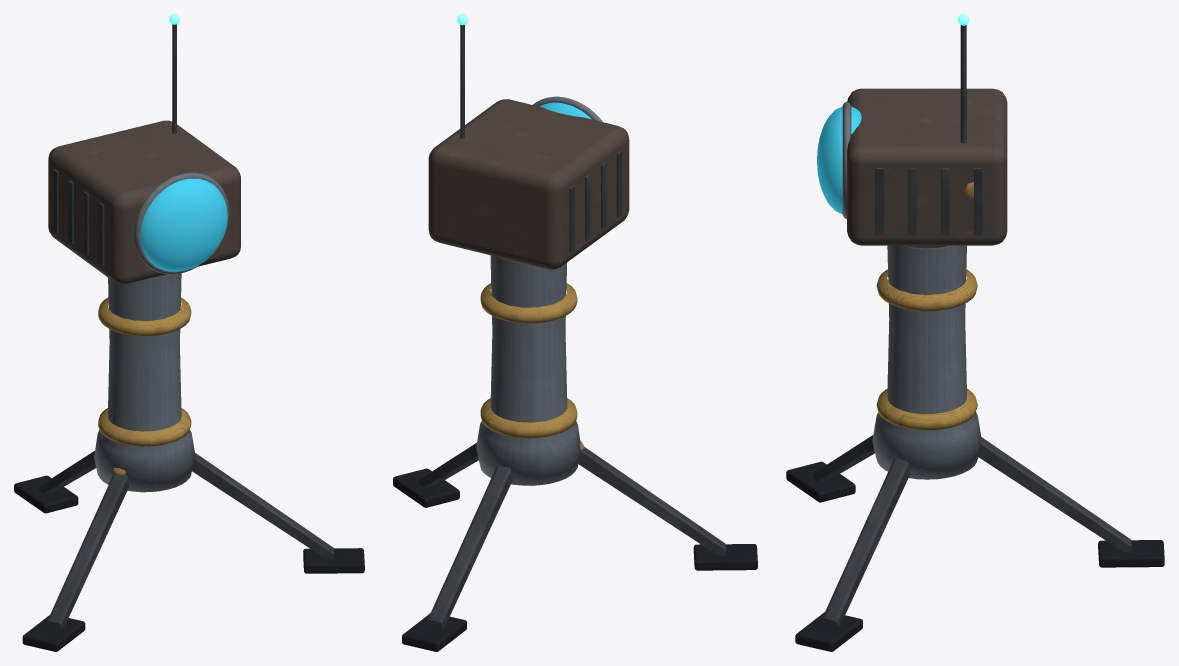
Rendered from sentry-node.lod1.glb.
3 renders of one model, left to right at view 1: azimuth 30°, elevation 25°; view 2: azimuth 150°, elevation 25°; view 3: azimuth 270°, elevation 25°, orthographic. The views are drawn at different scales.
Visible parts, largest first — view 1: ceramic / ceramic composite panel, alloy / machined anodized alloy, darksteel / oil-blackened fittings, crystal / faceted crystal, polymer / stippled polymer, brass / polished brass furniture; view 2: ceramic / ceramic composite panel, alloy / machined anodized alloy, darksteel / oil-blackened fittings, polymer / stippled polymer, brass / polished brass furniture; view 3: ceramic / ceramic composite panel, alloy / machined anodized alloy, darksteel / oil-blackened fittings, polymer / stippled polymer, brass / polished brass furniture, crystal / faceted crystal.
Boxes of the visible parts, x1,y1,x2,y2 form: ceramic / ceramic composite panel: (48, 120, 240, 284); alloy / machined anodized alloy: (94, 172, 229, 492); darksteel / oil-blackened fittings: (39, 24, 334, 629); crystal / faceted crystal: (140, 178, 227, 271); polymer / stippled polymer: (14, 475, 364, 651); brass / polished brass furniture: (98, 297, 191, 446); ceramic / ceramic composite panel: (428, 99, 629, 269); alloy / machined anodized alloy: (476, 96, 602, 485); darksteel / oil-blackened fittings: (419, 25, 725, 628); polymer / stippled polymer: (393, 468, 757, 651); brass / polished brass furniture: (480, 283, 577, 438); ceramic / ceramic composite panel: (847, 88, 1007, 245); alloy / machined anodized alloy: (842, 101, 981, 479); darksteel / oil-blackened fittings: (813, 25, 1131, 627); polymer / stippled polymer: (786, 461, 1164, 651); brass / polished brass furniture: (876, 269, 977, 430); crystal / faceted crystal: (817, 106, 861, 214).
Bounding box in the file's own units: 0.5897 × 0.864 × 0.5187.
8 materials, 5 textured.
